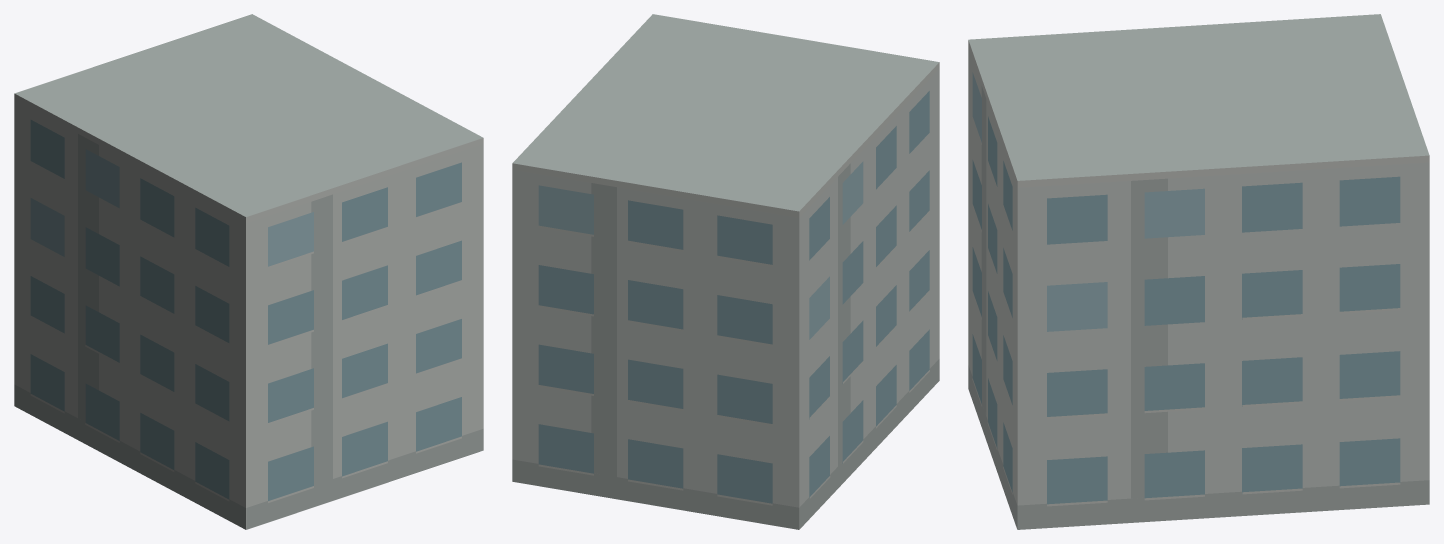
Rendered from residential-c3d62ec1-f08a-4ccc-a81f-ba18109ba553.glb.
3 renders of one model, left to right at view 1: azimuth 30°, elevation 25°; view 2: azimuth 150°, elevation 25°; view 3: azimuth 270°, elevation 25°, orthographic. The views are drawn at different scales.
Visible parts, largest first — view 1: residential-c3d62ec1-f08a-4ccc-a81f-ba18109ba553.tmp; view 2: residential-c3d62ec1-f08a-4ccc-a81f-ba18109ba553.tmp; view 3: residential-c3d62ec1-f08a-4ccc-a81f-ba18109ba553.tmp.
Part boxes in pixels (x1,y1,x2,y2): residential-c3d62ec1-f08a-4ccc-a81f-ba18109ba553.tmp: (14, 14, 483, 529); residential-c3d62ec1-f08a-4ccc-a81f-ba18109ba553.tmp: (512, 14, 939, 529); residential-c3d62ec1-f08a-4ccc-a81f-ba18109ba553.tmp: (968, 14, 1429, 529).
Size of the model in its own units: 12.53 by 12.2 by 14.63.
